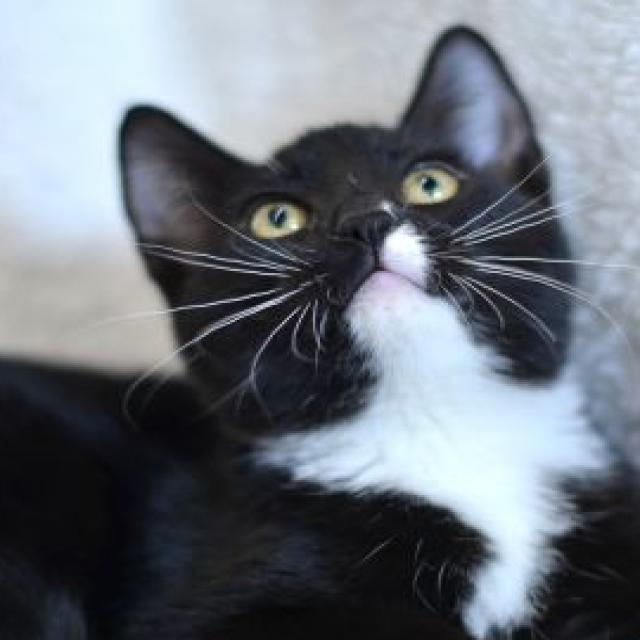Tuxedo: (0, 21, 640, 640)
